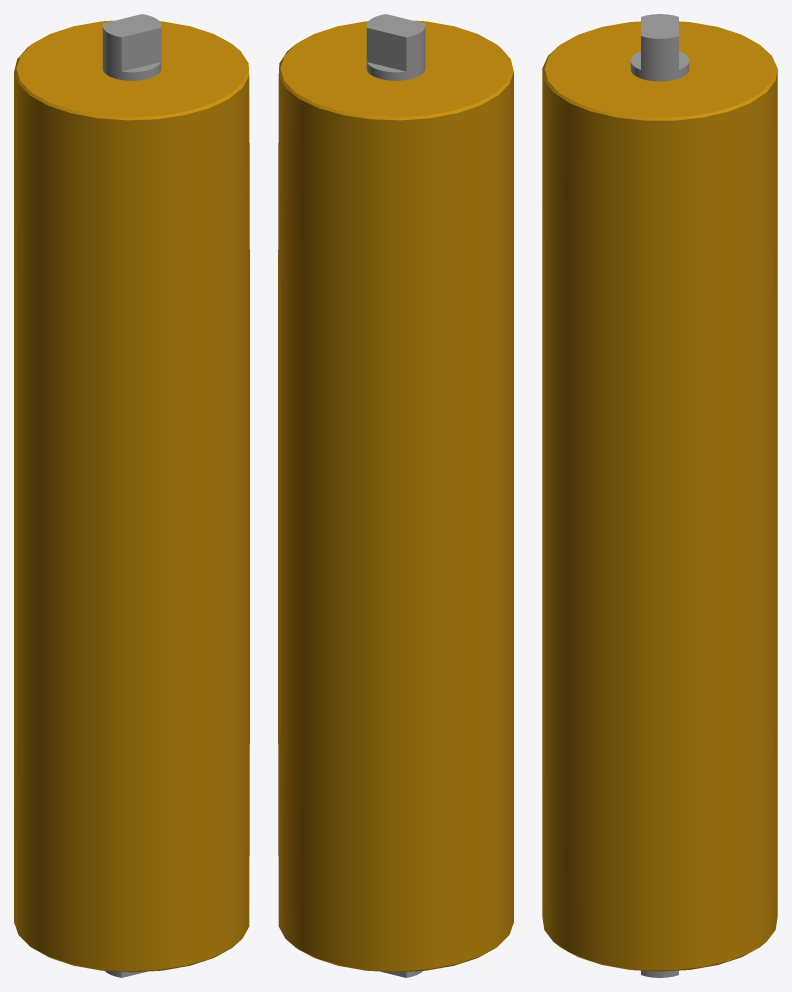
File: Rolete_Carga.obj
The picture shows the model from 3 angles, left to right: view 1: azimuth 30°, elevation 25°; view 2: azimuth 150°, elevation 25°; view 3: azimuth 270°, elevation 25°; orthographic projection.
Visible parts, largest first — view 1: Corpo2, Corpo3; view 2: Corpo2, Corpo3; view 3: Corpo2, Corpo3.
Part boxes in pixels (x1=…): Corpo2: x1=14, y1=20, x2=249, y2=972; Corpo3: x1=102, y1=14, x2=161, y2=977; Corpo2: x1=278, y1=20, x2=513, y2=972; Corpo3: x1=366, y1=14, x2=425, y2=977; Corpo2: x1=542, y1=21, x2=777, y2=971; Corpo3: x1=630, y1=14, x2=689, y2=977.
Size of the model in its own units: 10 by 44 by 10.
